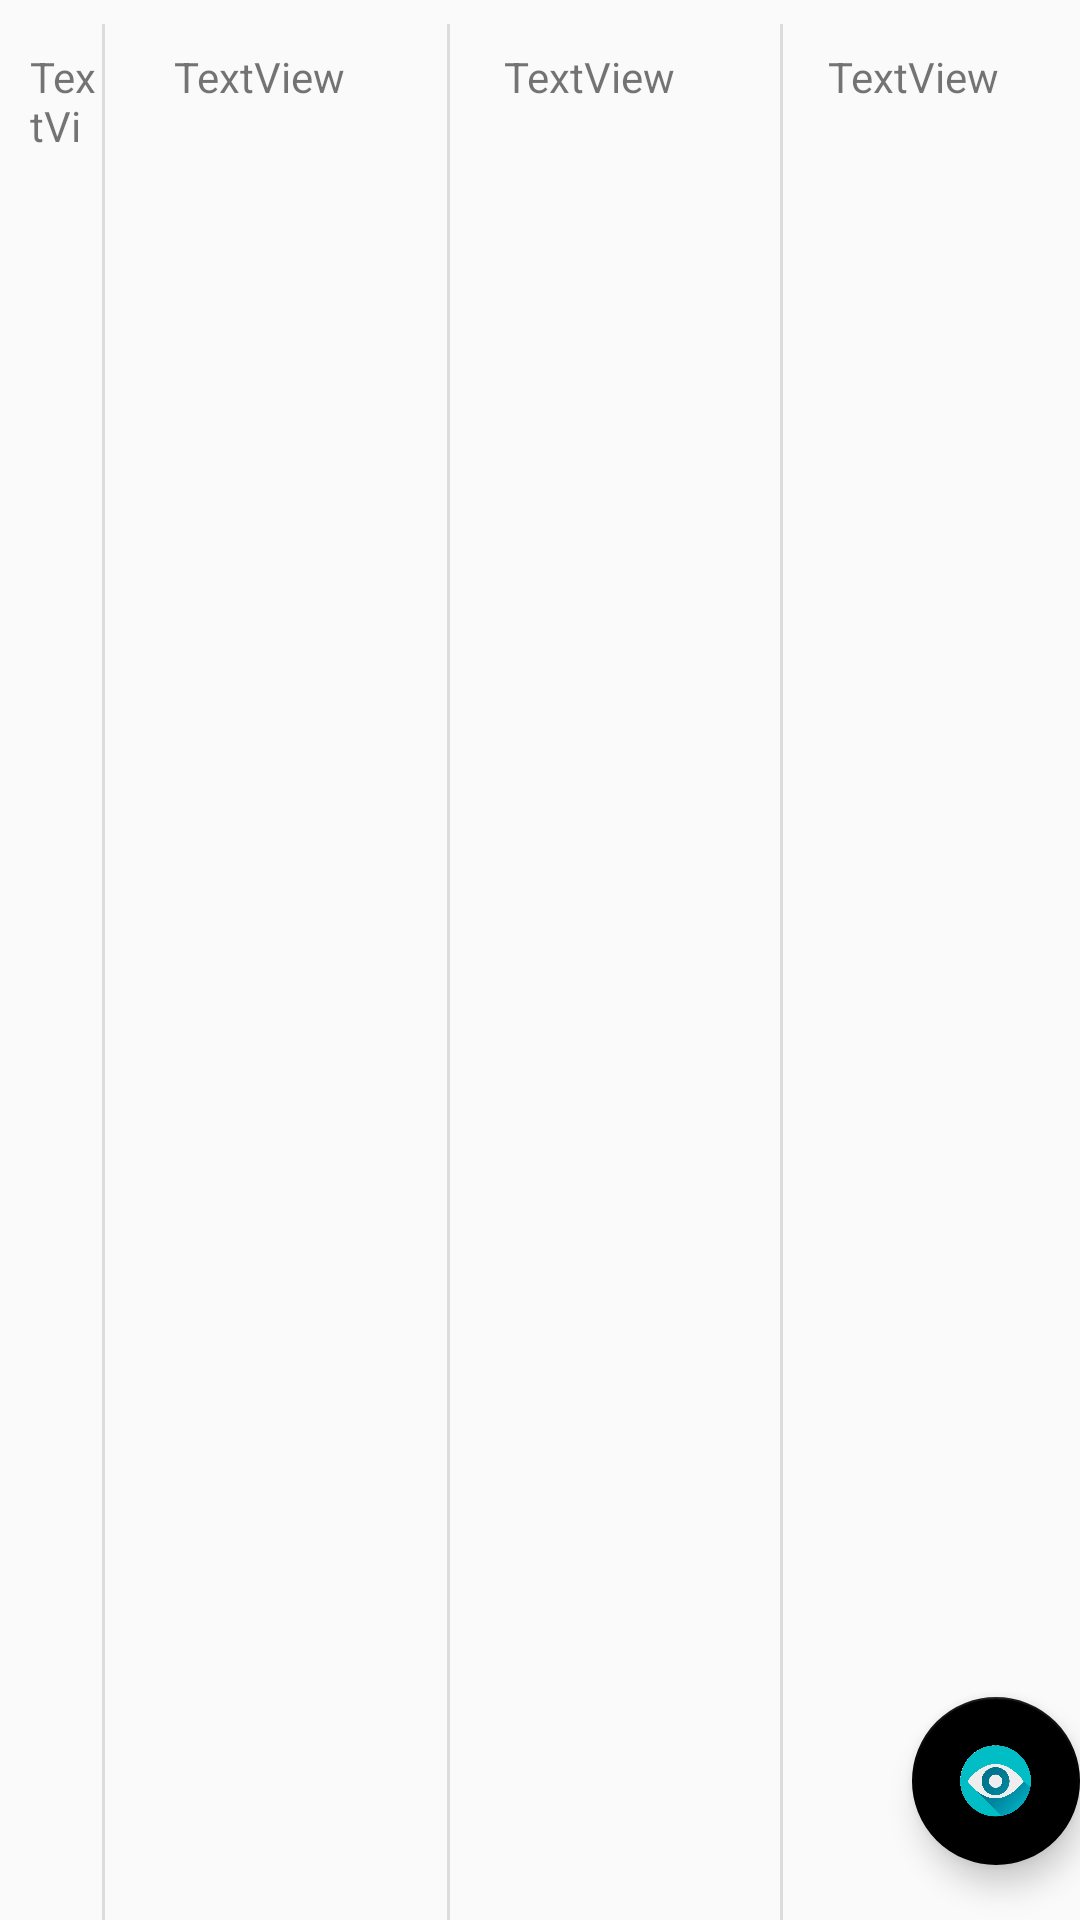

Screen size 1080 × 1920. Icon name, then its box in pixels as bbox=[x1, y1, x2, y2]:
eye: bbox=[912, 1697, 1080, 1865]
